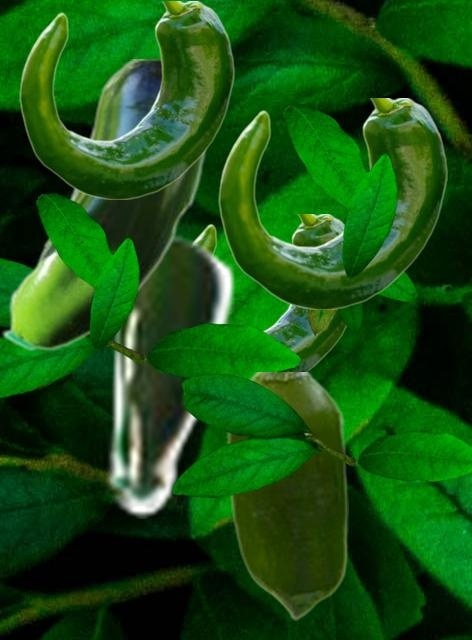green_chili: (1, 59, 206, 351), (218, 98, 447, 308), (19, 1, 234, 198), (100, 231, 236, 517), (226, 372, 347, 619), (196, 214, 346, 371)
